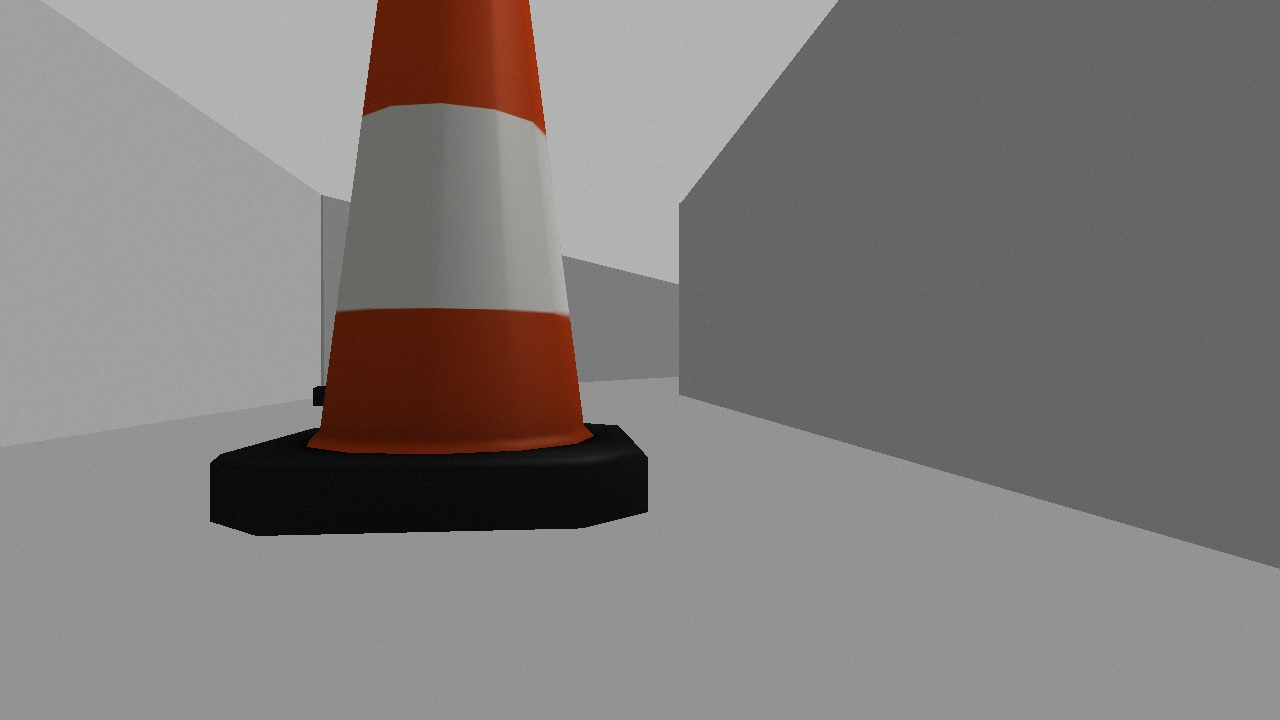barricade: (191, 1, 660, 549)
